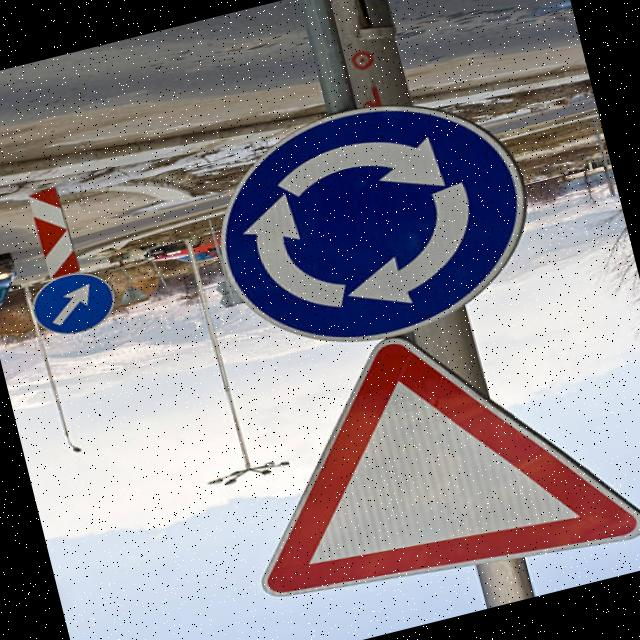give_way: (198, 277, 640, 640)
